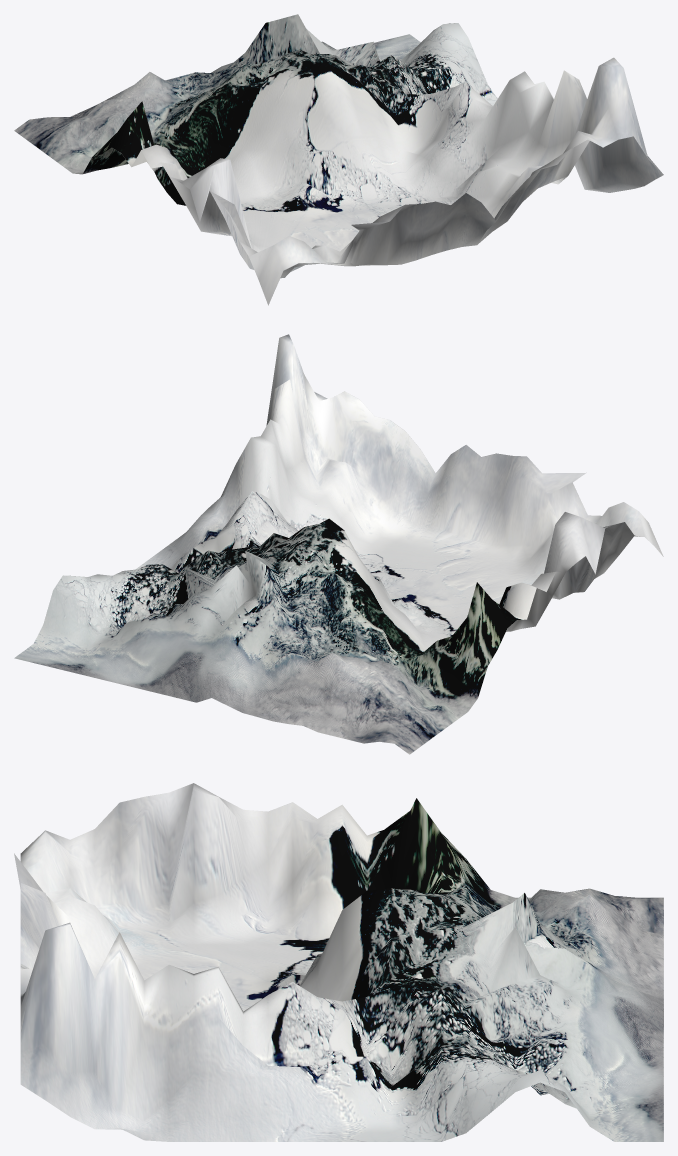
The model's file is snowmountain.FBX.
3 views of the same model, one above another, from view 1: azimuth 30°, elevation 25°; view 2: azimuth 150°, elevation 25°; view 3: azimuth 270°, elevation 25° (orthographic). The views are drawn at different scales.
Visible parts, largest first — view 1: Plane001; view 2: Plane001; view 3: Plane001.
Boxes of the visible parts, left/top/right/bottom form: Plane001: left=14, top=14, right=663, bottom=305; Plane001: left=14, top=334, right=663, bottom=754; Plane001: left=14, top=783, right=663, bottom=1141.
Bounding box in the file's own units: 109 × 41.22 × 123.
Materials: 1 (1 with a texture image).
